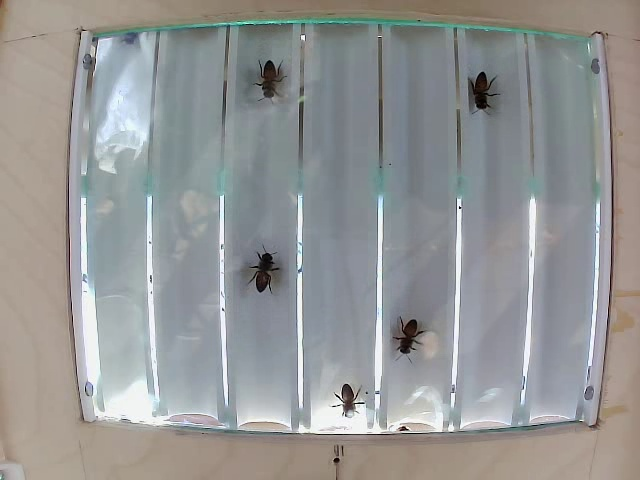bee: (251, 51, 289, 117), (246, 239, 278, 288), (465, 67, 496, 114), (392, 312, 420, 363), (329, 381, 361, 411)
